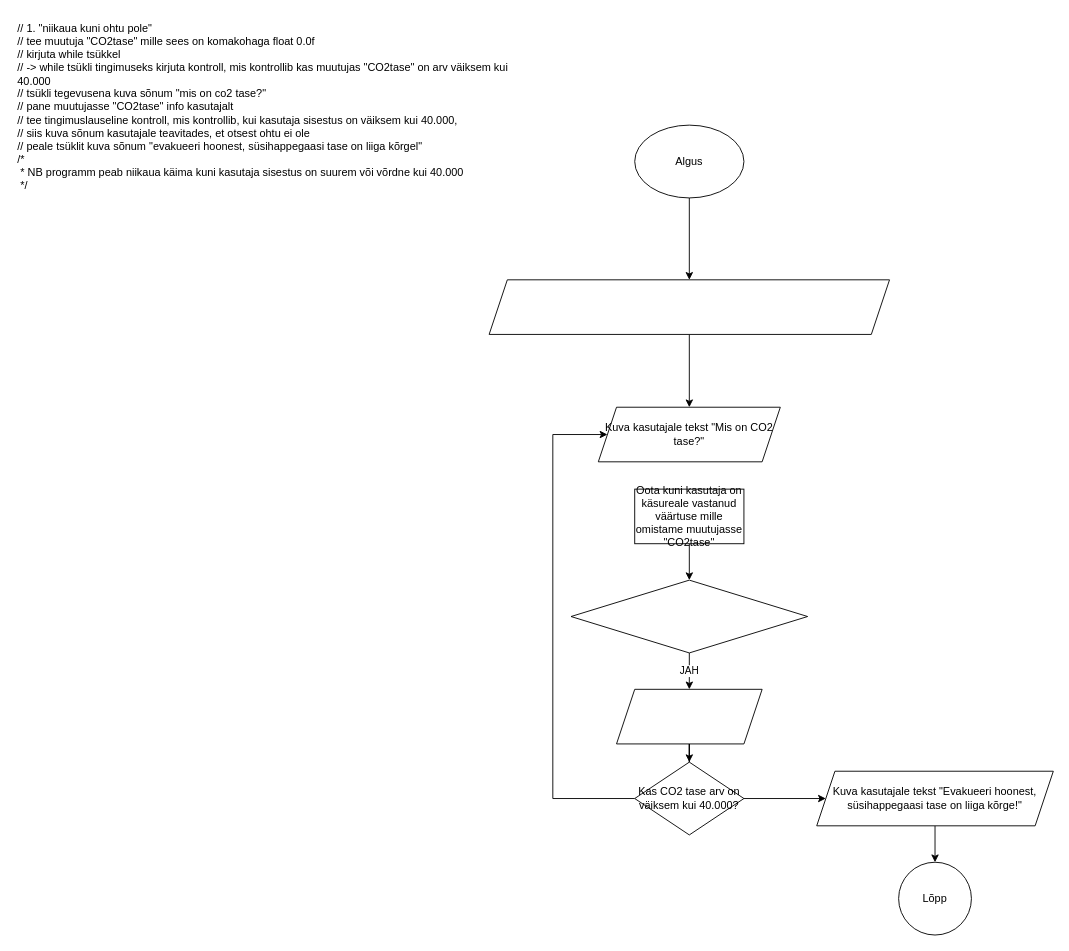
This 1069x951 diagram has some shape labels left out. The shapes that lost their labels are listed below. From the top down, each one's centre as x and y in pixels, then its label:
[689,306]: Tekita muutuja "CO2tase" milelle omistame algse väärtuse muutuja flaot 0.0f
[689,616]: Kas väärtus muutujas "CO2tase" on väiksem kui 40f?
[689,716]: Kuva kasutajale tekst "Otsest ohtu ei ole"
